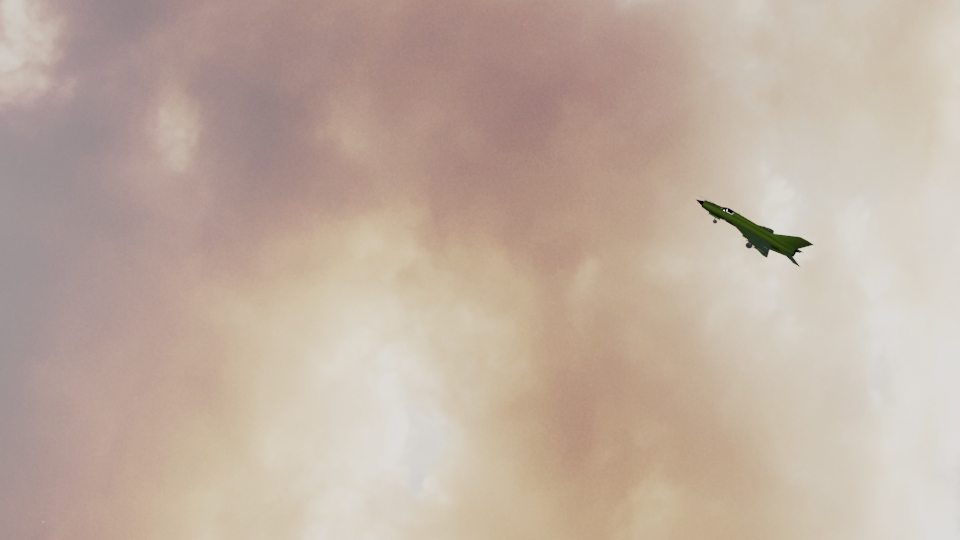plane: (694, 197, 814, 265)
